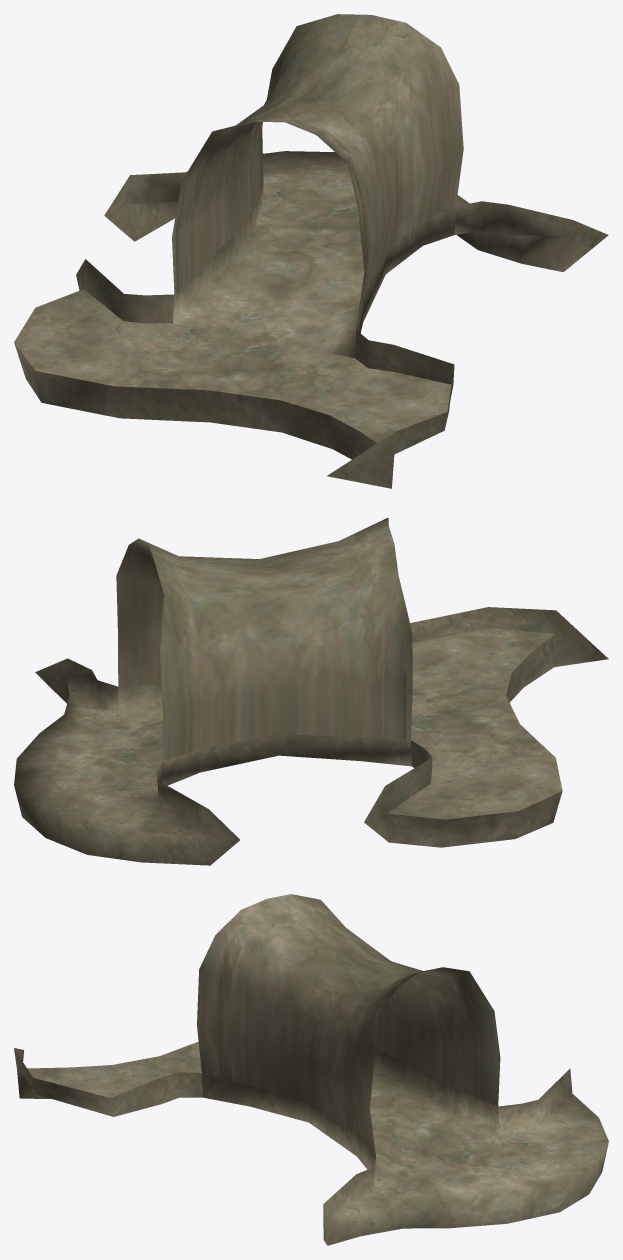
File: EKH_CAVERNS_PS_CA_TUNNEL_48447__GX.fbx
The picture shows the model from 3 angles, top to bottom: view 1: azimuth 30°, elevation 25°; view 2: azimuth 150°, elevation 25°; view 3: azimuth 270°, elevation 25°; orthographic projection. The views are drawn at different scales.
Parts seen in each view (by area): view 1: EKH_CAVERNS_PS_CA_TUNNEL_48447__GX; view 2: EKH_CAVERNS_PS_CA_TUNNEL_48447__GX; view 3: EKH_CAVERNS_PS_CA_TUNNEL_48447__GX.
Part boxes in pixels (x1,y1,x2,y2): EKH_CAVERNS_PS_CA_TUNNEL_48447__GX: (14, 14, 608, 488); EKH_CAVERNS_PS_CA_TUNNEL_48447__GX: (14, 518, 608, 865); EKH_CAVERNS_PS_CA_TUNNEL_48447__GX: (14, 894, 608, 1245).
Size of the model in its own units: 88816 by 37055 by 92483.
Materials: 1 (1 with a texture image).
